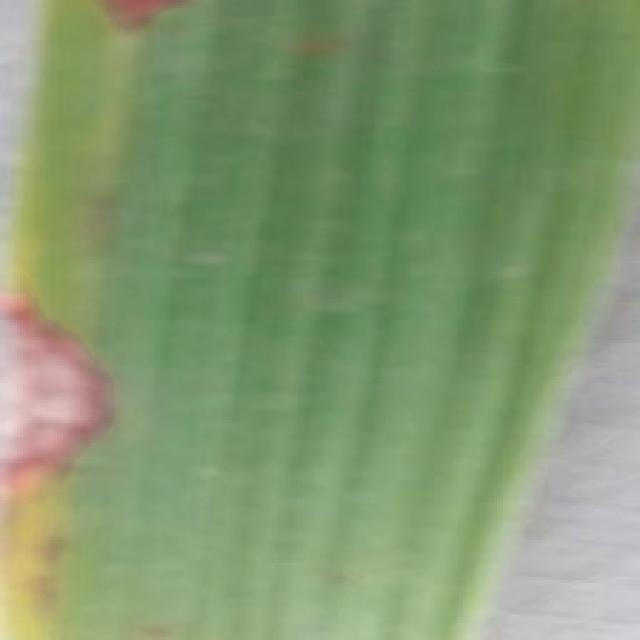Unhealthy: (0, 264, 125, 505), (82, 0, 202, 47), (32, 522, 81, 567), (289, 31, 350, 59), (24, 570, 61, 603), (134, 620, 173, 640)
